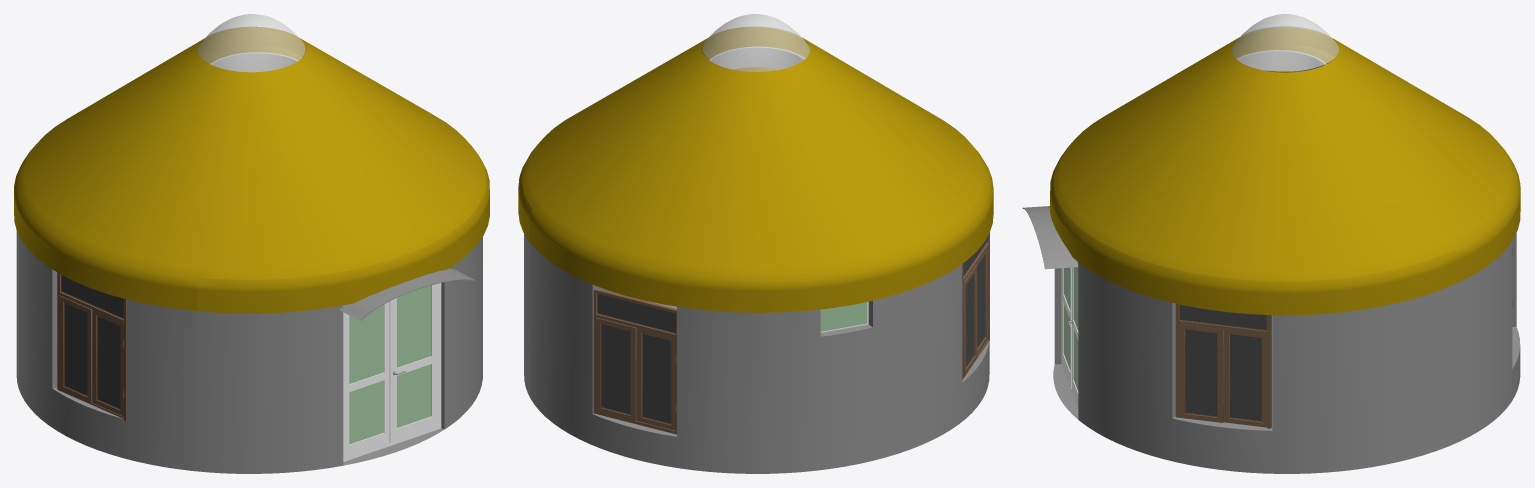
File: exterior.glb
3 renders of one model, left to right at view 1: azimuth 30°, elevation 25°; view 2: azimuth 150°, elevation 25°; view 3: azimuth 270°, elevation 25°, orthographic.
Parts seen in each view (by area): view 1: Roof cover, Wall cover, Glass, Charcoal Blue, [Translucent Glass Sky Reflection]2, Joinery, Roof frame; view 2: Roof cover, Wall cover, Glass, Joinery, [Translucent Glass Sky Reflection]2, Roof frame; view 3: Roof cover, Wall cover, Glass, [Translucent Glass Sky Reflection]2, Joinery, Roof frame, Charcoal Blue.
Part boxes in pixels (x1,y1,x2,y2): Roof cover: (14, 26, 489, 313); Wall cover: (16, 231, 482, 473); Glass: (61, 275, 431, 444); Charcoal Blue: (343, 283, 441, 461); [Translucent Glass Sky Reflection]2: (197, 14, 305, 72); Joinery: (57, 272, 405, 420); Roof frame: (121, 52, 298, 298); Roof cover: (518, 27, 993, 312); Wall cover: (524, 234, 989, 473); Glass: (597, 238, 986, 423); Joinery: (593, 232, 989, 434); [Translucent Glass Sky Reflection]2: (702, 14, 810, 71); Roof frame: (709, 46, 804, 69); Roof cover: (1050, 26, 1520, 315); Wall cover: (1022, 206, 1520, 473); Glass: (1064, 261, 1266, 421); [Translucent Glass Sky Reflection]2: (1231, 14, 1338, 71); Joinery: (1068, 248, 1512, 428); Roof frame: (1237, 50, 1326, 71); Charcoal Blue: (1061, 267, 1078, 408).
Size of the model in its own units: 6.15 by 5.07 by 6.4.
